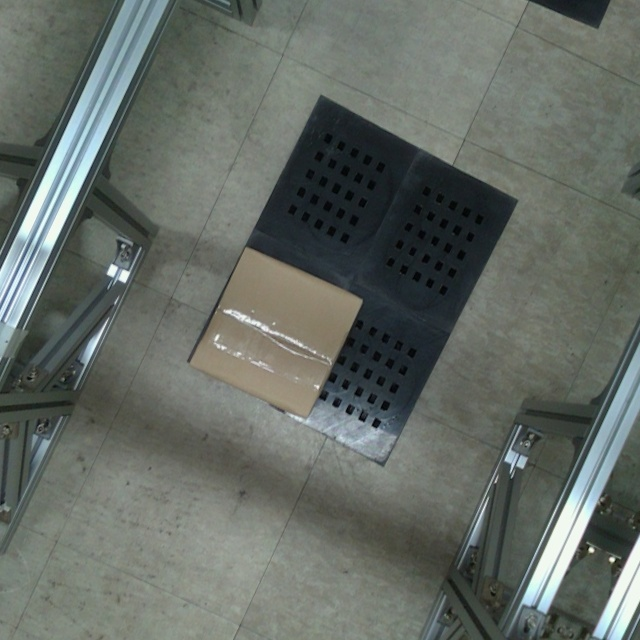box: (186, 240, 366, 423)
pallet: (170, 80, 533, 478)
